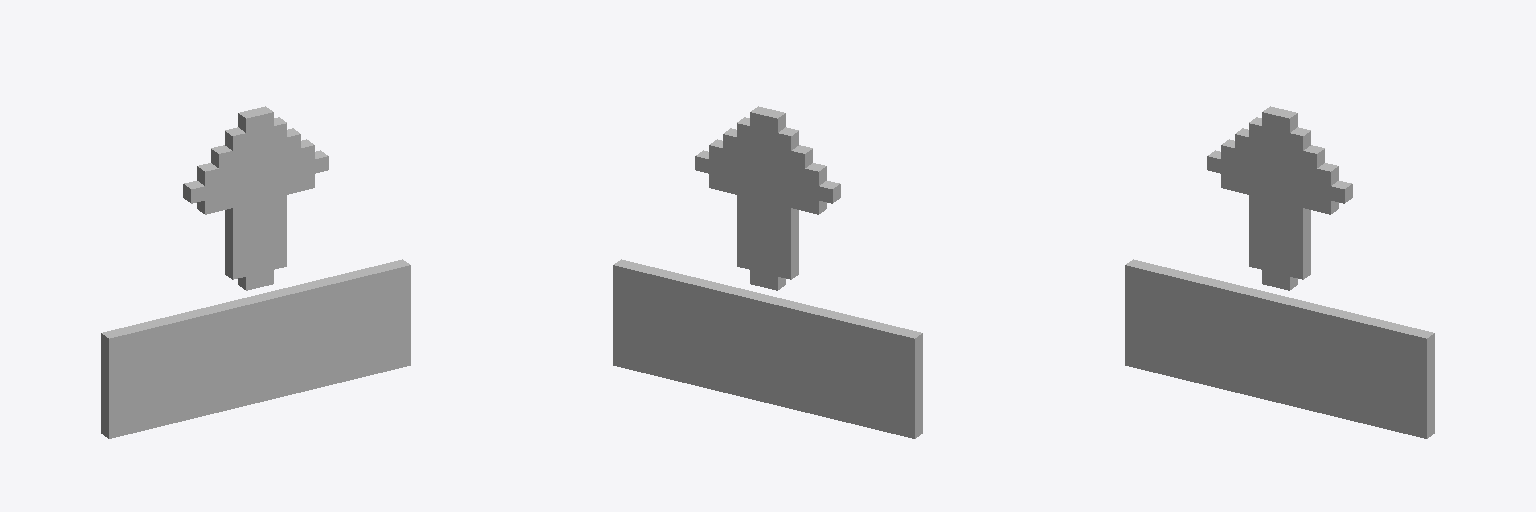
Rendered from Up sign.obj.
3 views of the same model, side by side, from view 1: azimuth 30°, elevation 25°; view 2: azimuth 150°, elevation 25°; view 3: azimuth 330°, elevation 25° (orthographic).
Parts seen in each view (by area): view 1: object 1; view 2: object 1; view 3: object 1.
Boxes of the visible parts, <box> form: object 1: <box>101,106,410,438</box>; object 1: <box>613,106,922,438</box>; object 1: <box>1125,106,1434,438</box>.
Size of the model in its own units: 2.2 by 2 by 0.1.